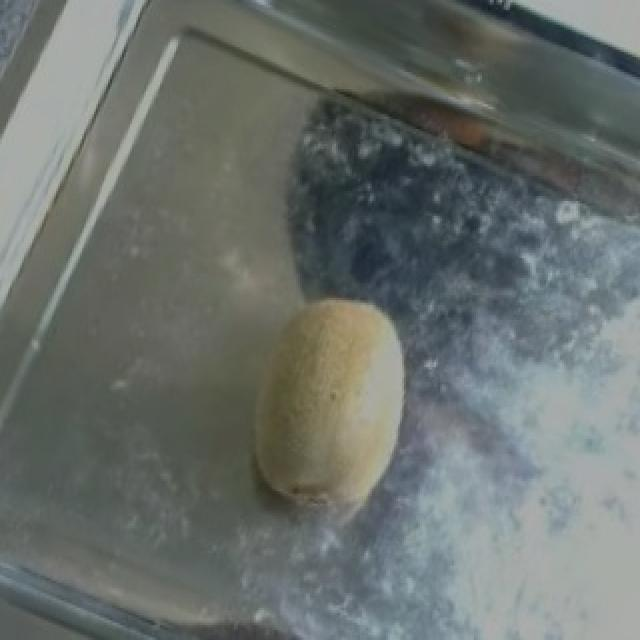Fruit: (216, 256, 438, 538)
